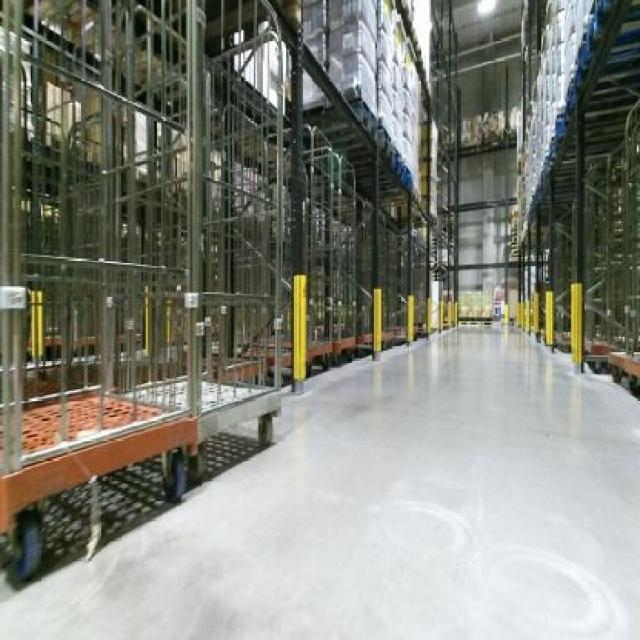floor: (0, 326, 637, 637)
